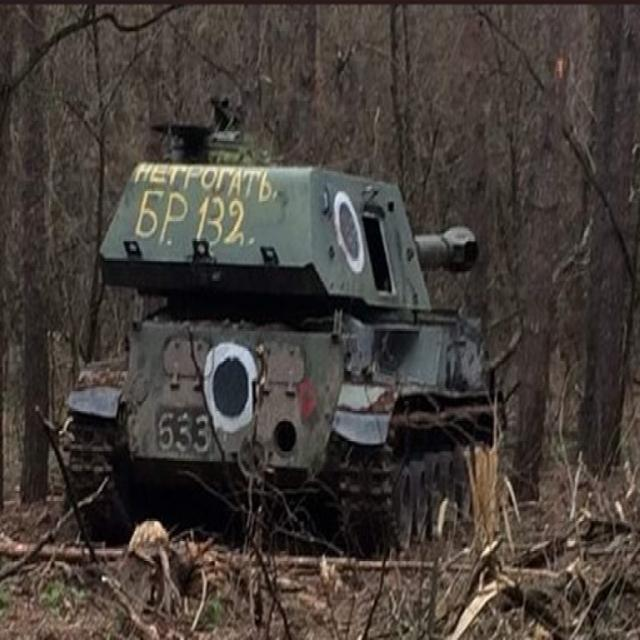ART: (58, 131, 510, 578)
